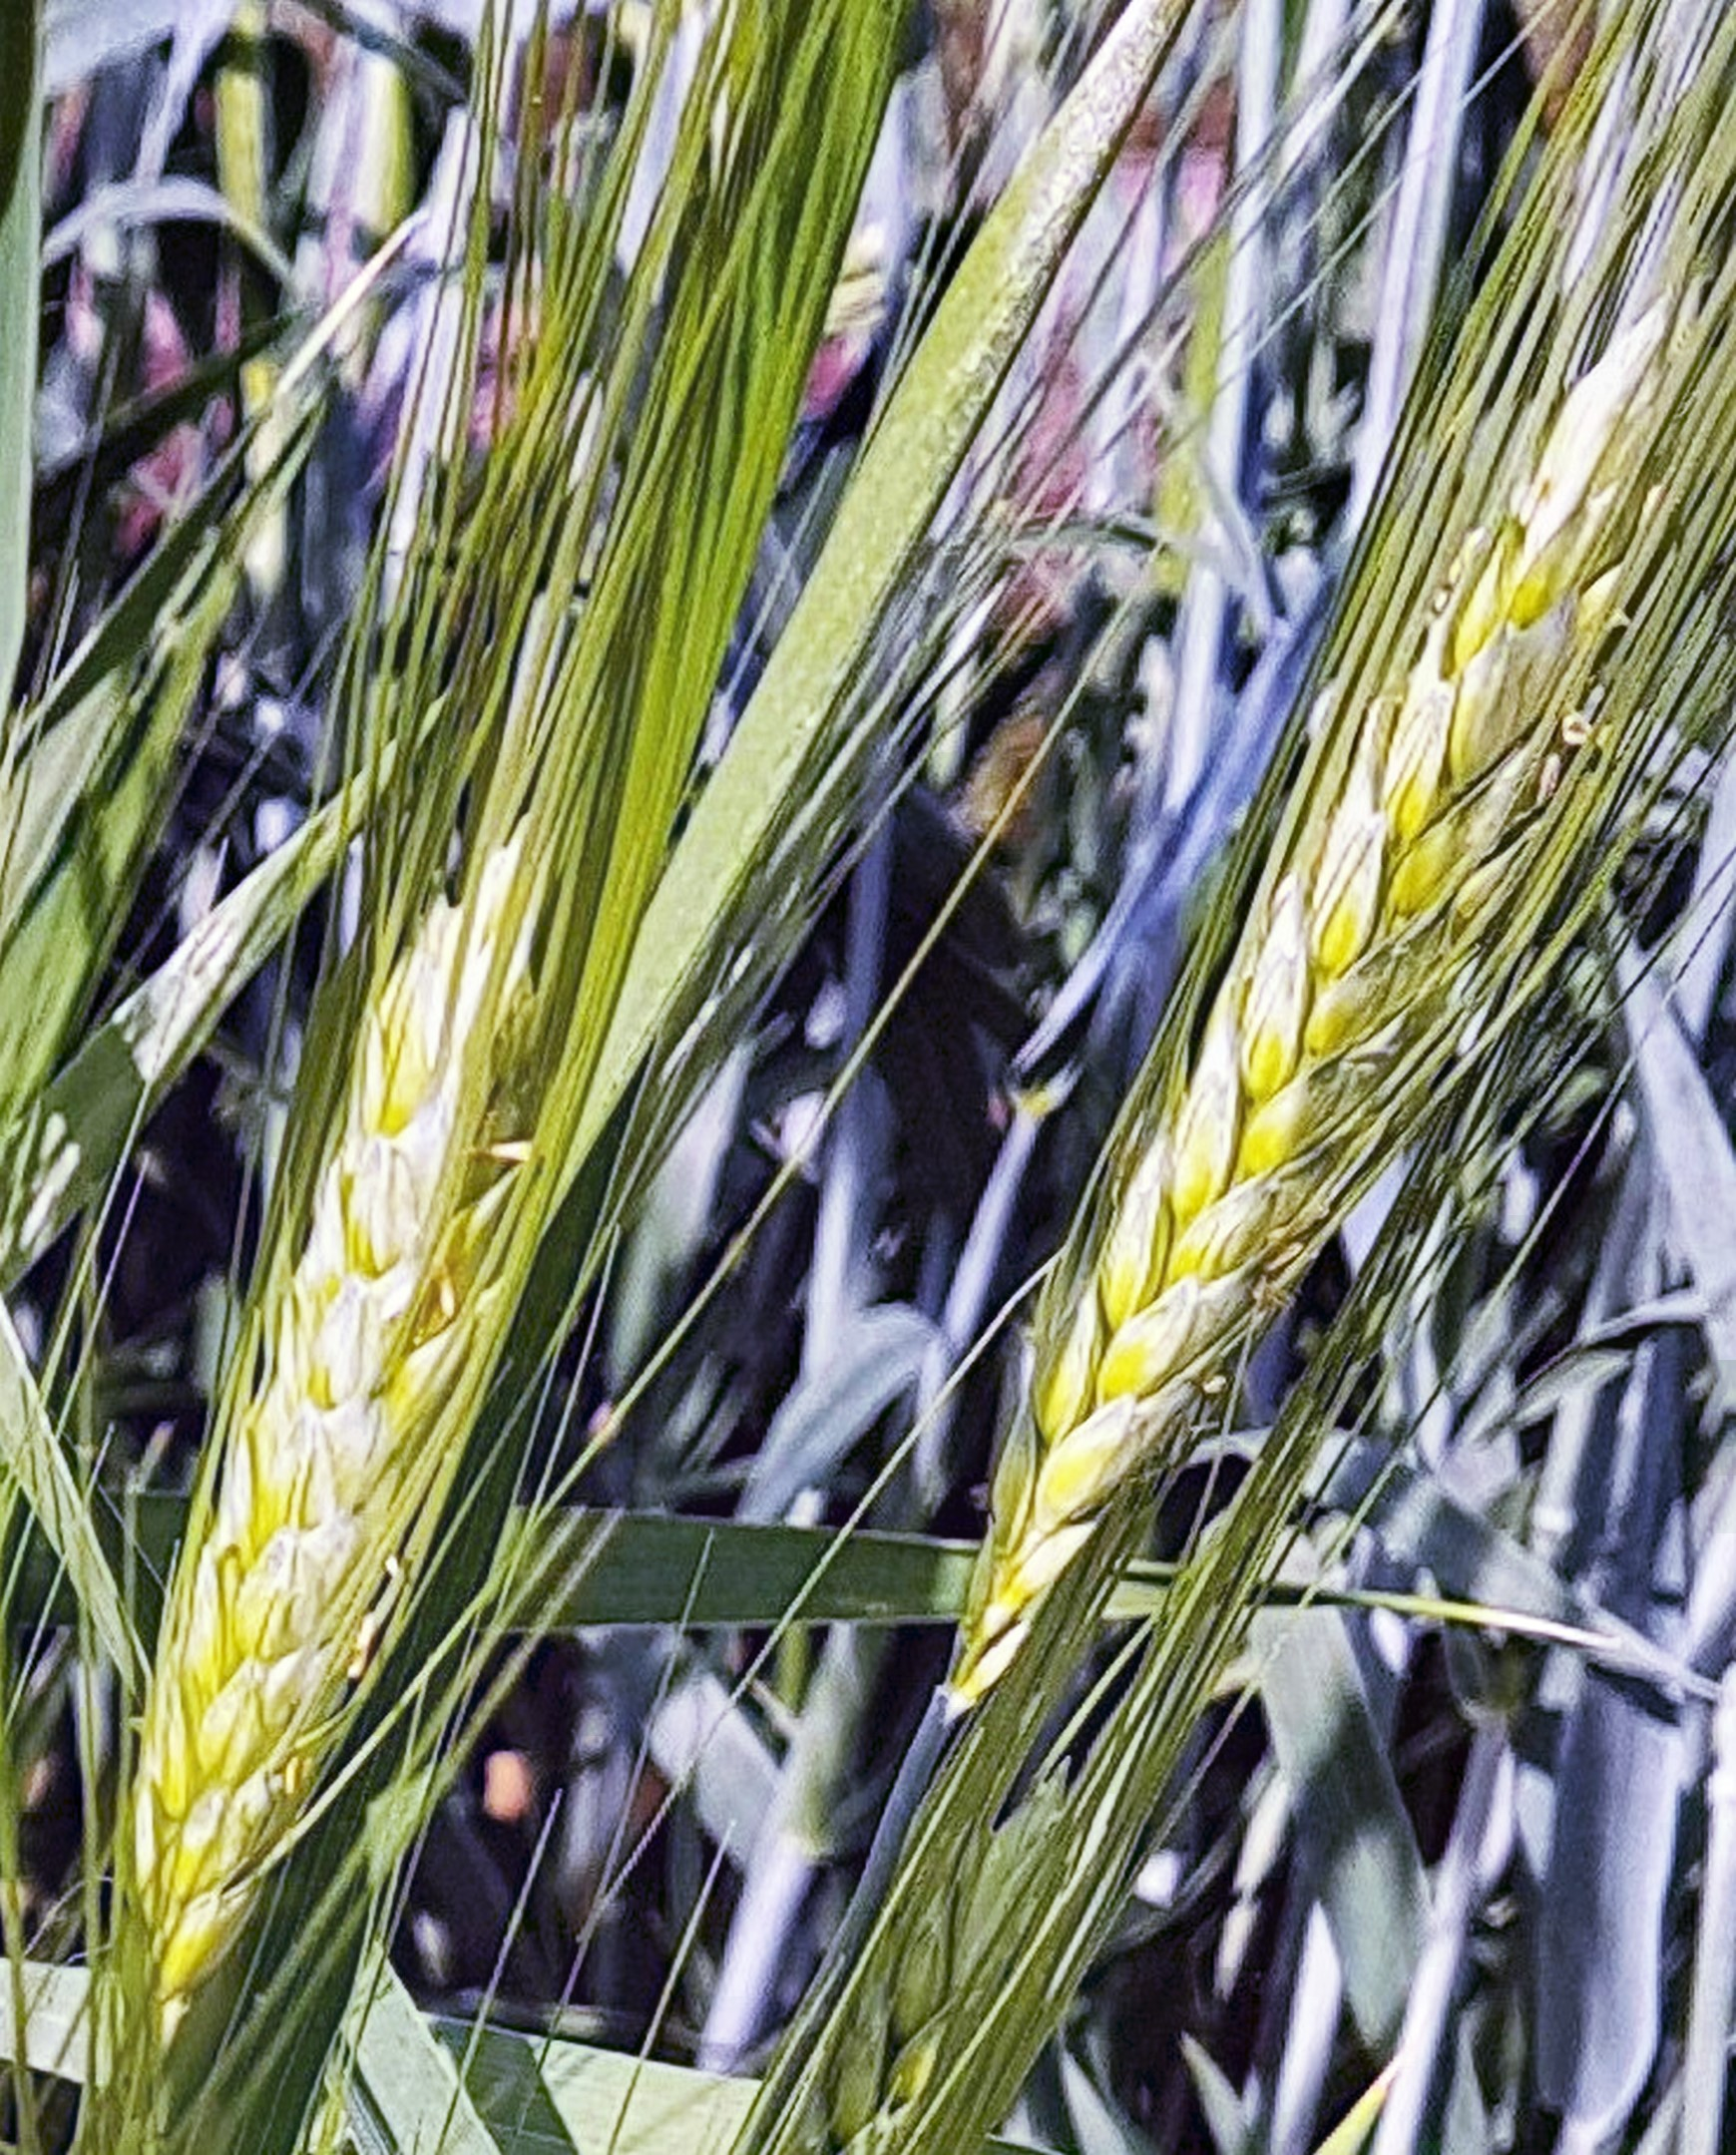Healthy Wheat: (1001, 328, 1709, 1523)
